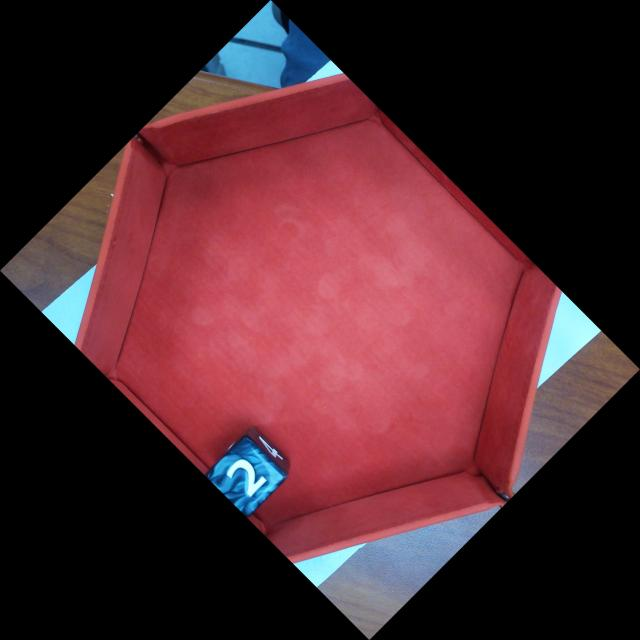dice: (213, 437, 286, 516)
